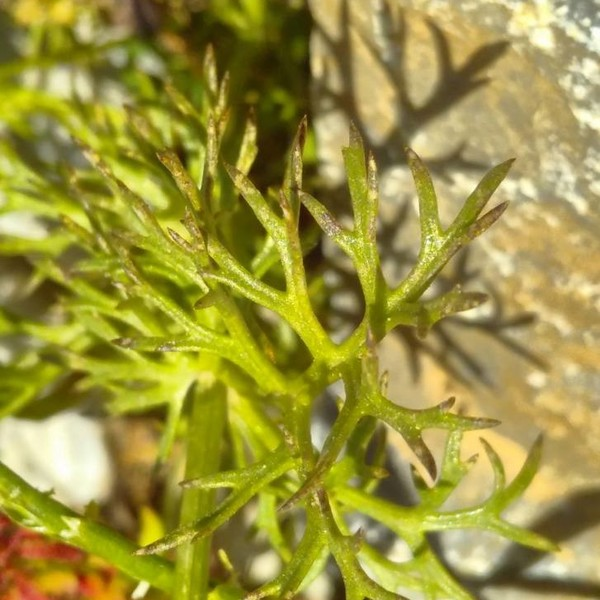obstacle: (54, 93, 522, 555)
